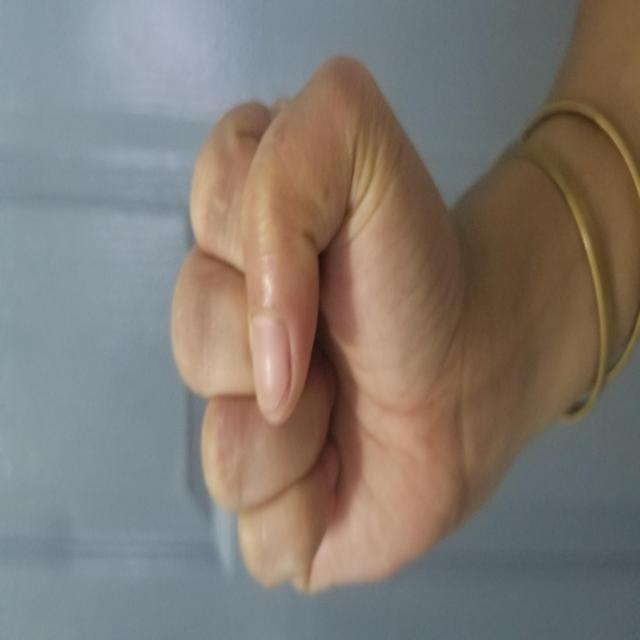S: (44, 170, 589, 468)
